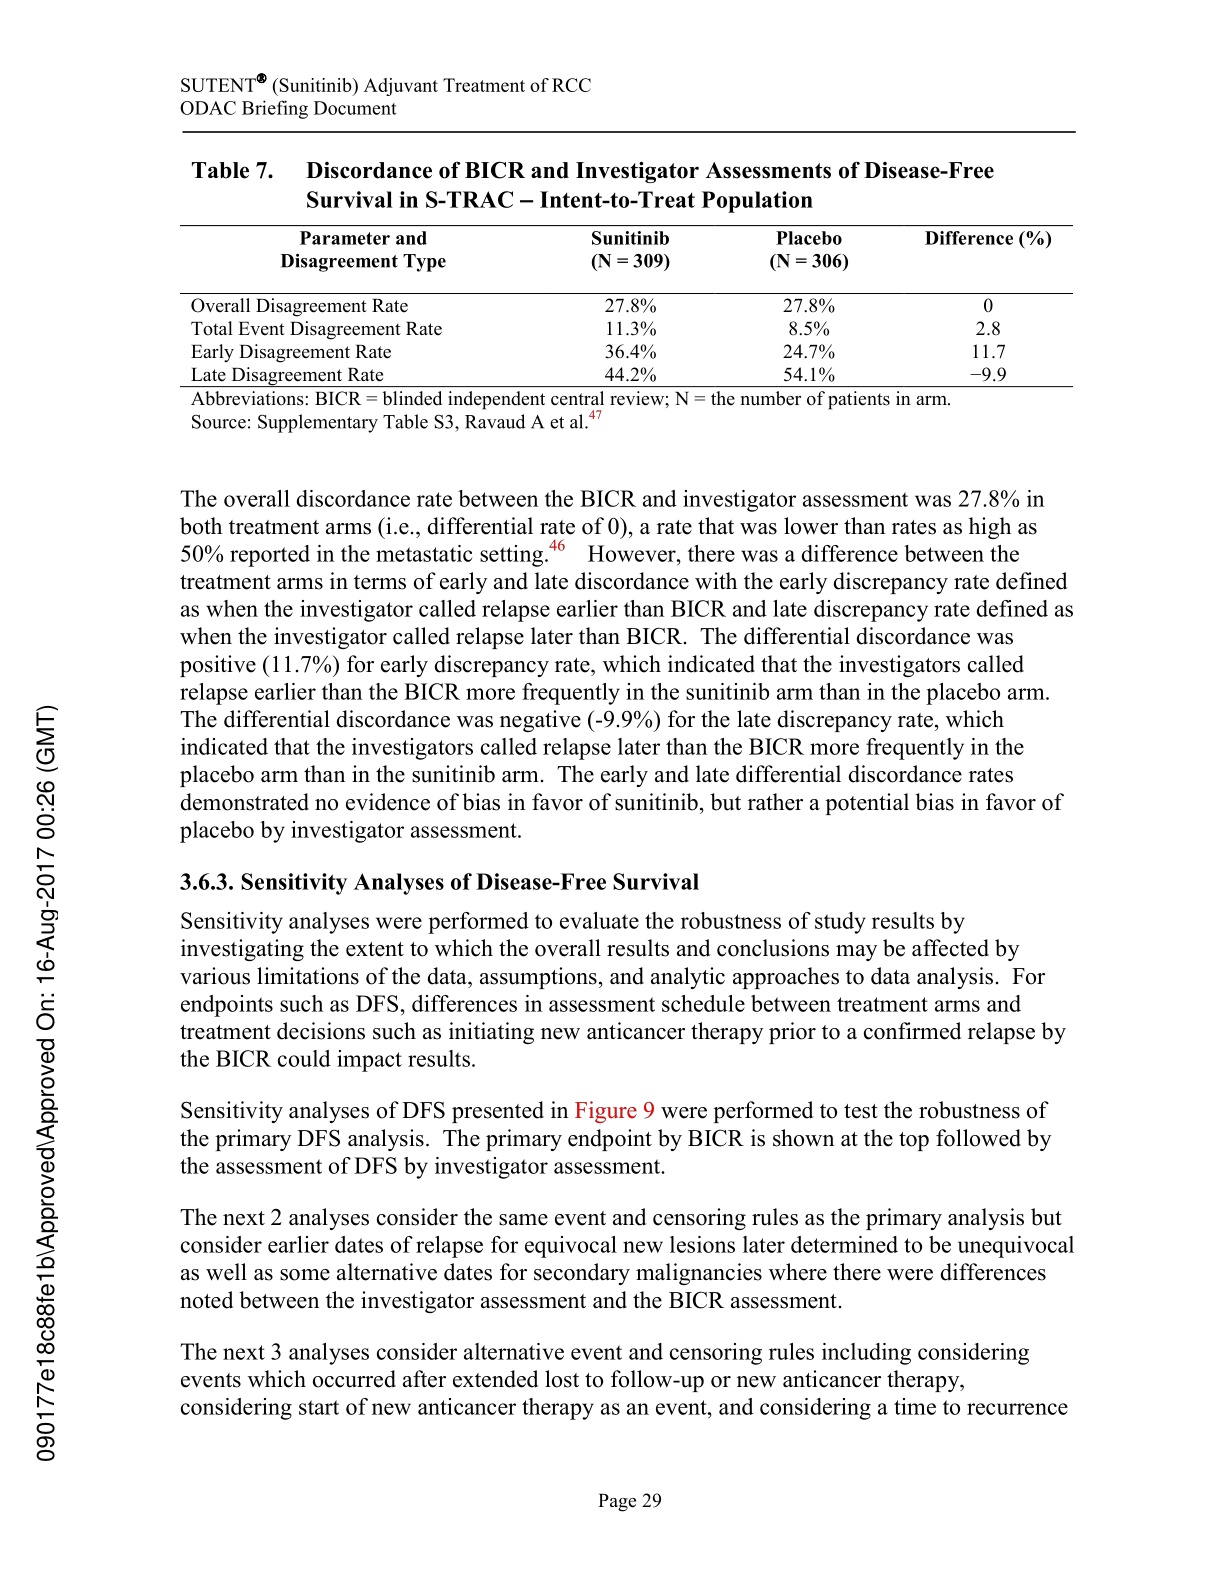partial_lined: (180, 224, 1075, 390)
